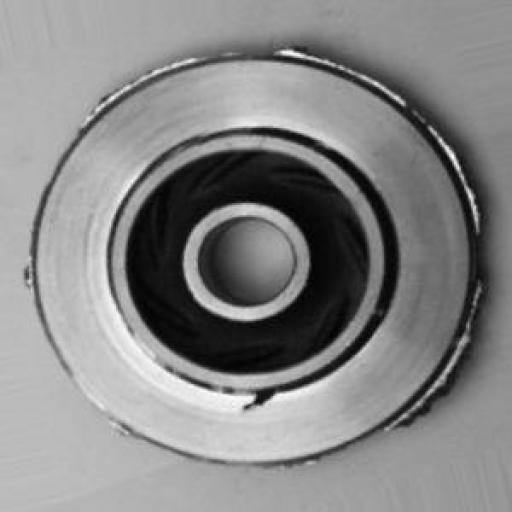defect: (32, 26, 504, 480)
